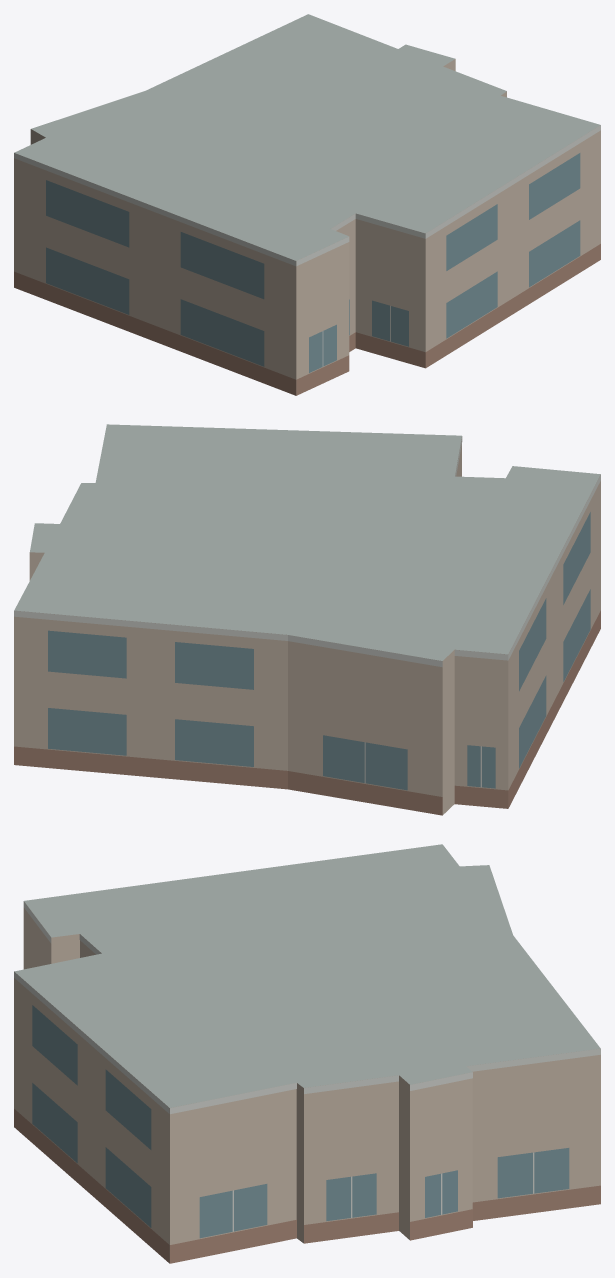
The model's file is survey-upis-32468693.glb.
3 renders of one model, top to bottom at view 1: azimuth 30°, elevation 25°; view 2: azimuth 150°, elevation 25°; view 3: azimuth 270°, elevation 25°, orthographic. The views are drawn at different scales.
Parts seen in each view (by area): view 1: survey-upis-32468693.tmp; view 2: survey-upis-32468693.tmp; view 3: survey-upis-32468693.tmp.
Part boxes in pixels (left/top/right/bottom): survey-upis-32468693.tmp: left=14, top=14, right=600, bottom=395; survey-upis-32468693.tmp: left=14, top=424, right=600, bottom=815; survey-upis-32468693.tmp: left=14, top=844, right=600, bottom=1263.
Size of the model in its own units: 22.2 by 6.1 by 20.85.
